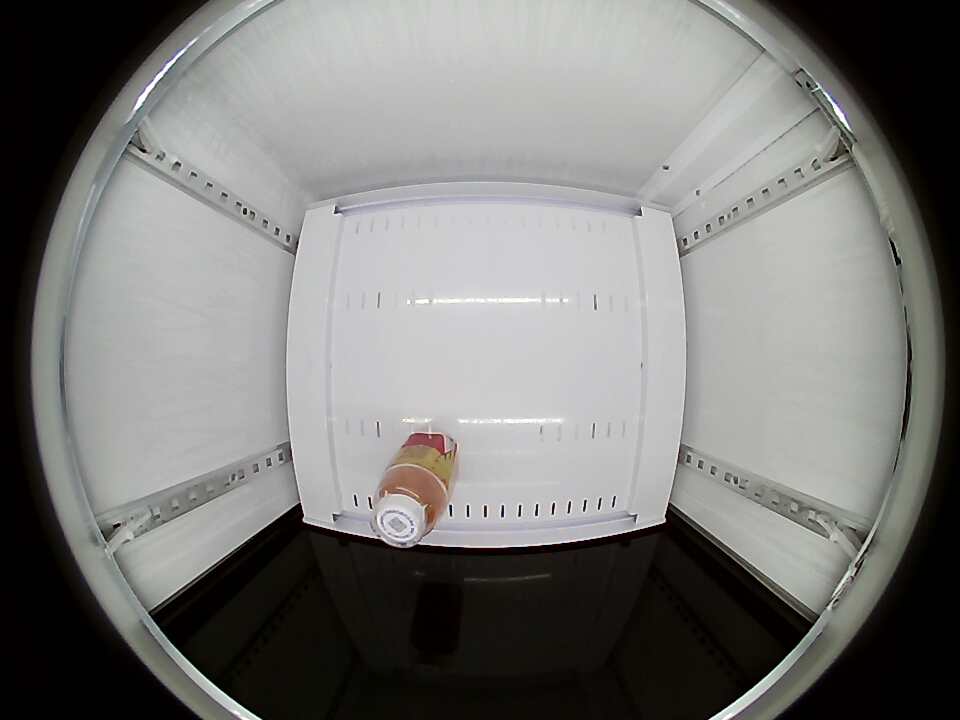dongpeng-b: (372, 463, 450, 548)
